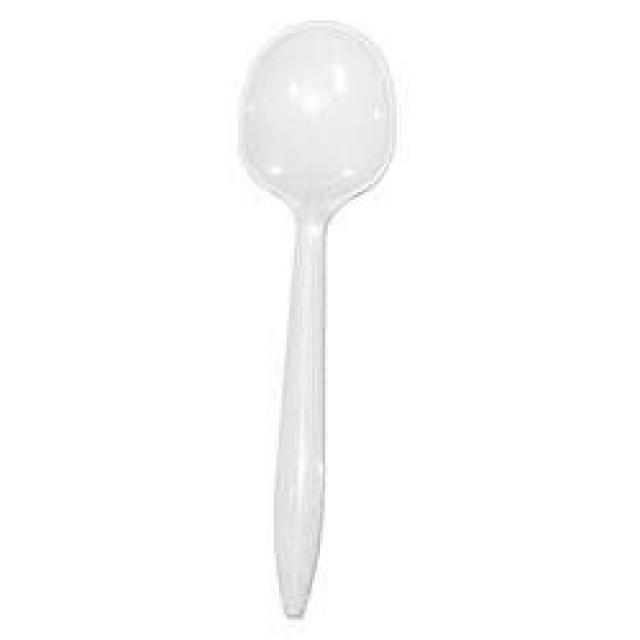spoon: (228, 15, 404, 629)
